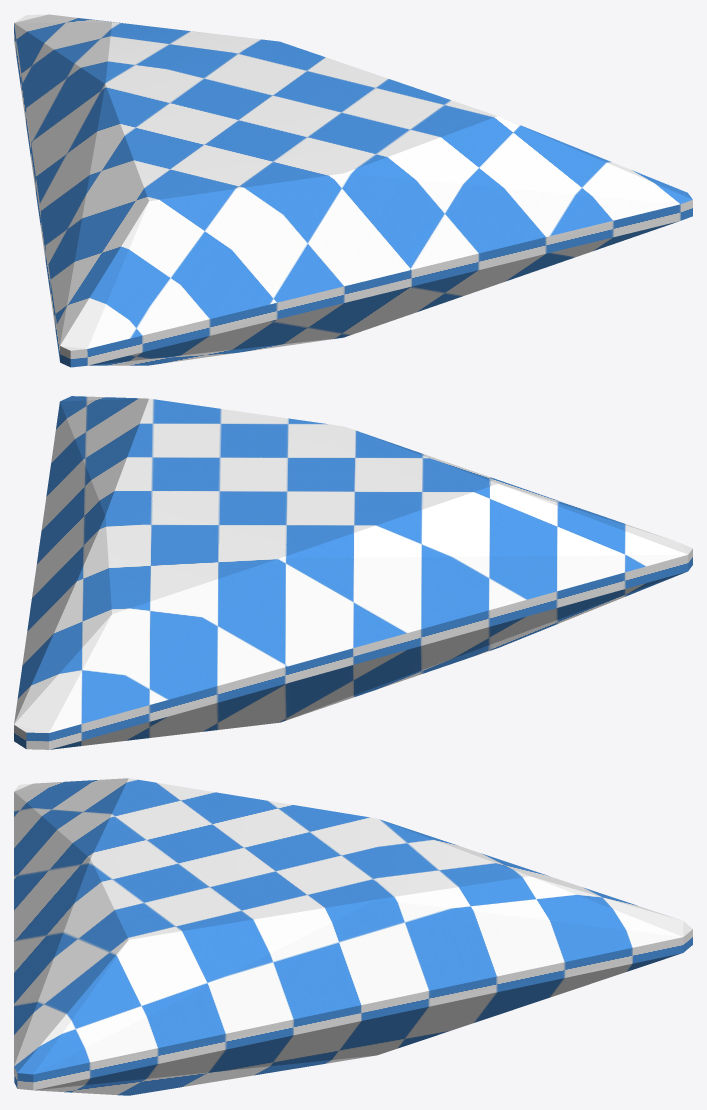
File: TriangleCutDouble.FBX
3 renders of one model, top to bottom at view 1: azimuth 30°, elevation 25°; view 2: azimuth 150°, elevation 25°; view 3: azimuth 270°, elevation 25°, orthographic. The views are drawn at different scales.
Visible parts, largest first — view 1: TriangleCutDouble; view 2: TriangleCutDouble; view 3: TriangleCutDouble.
Part boxes in pixels (x1,y1,x2,y2): TriangleCutDouble: (14,14,692,367); TriangleCutDouble: (14,396,692,749); TriangleCutDouble: (14,778,692,1095).
Size of the model in its own units: 1.14 by 0.2858 by 1.13.
